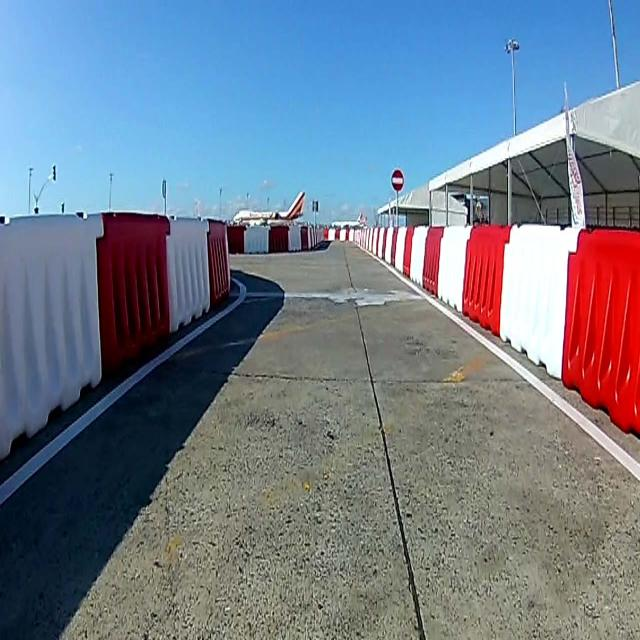girisyok: (389, 169, 405, 192)
